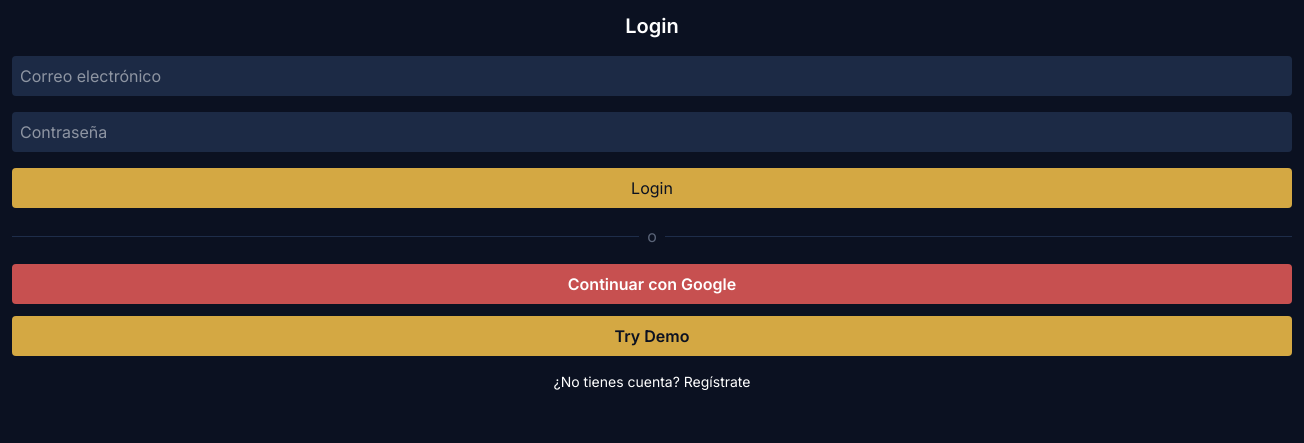
Test: LoginPage › shows an error message when login fails
Type "bad@example.com" into the field with placeholder "Correo electrónico" at (652, 76), box 12,56 -> 1292,96
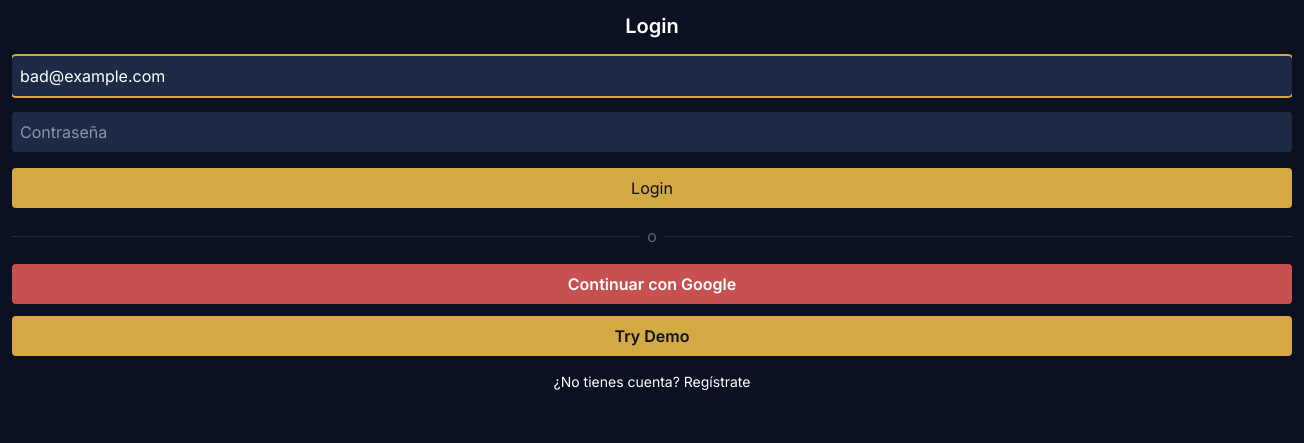
Type "wrongpass" into the password field with placeholder "Contraseña" at (652, 132), box 12,112 -> 1292,152
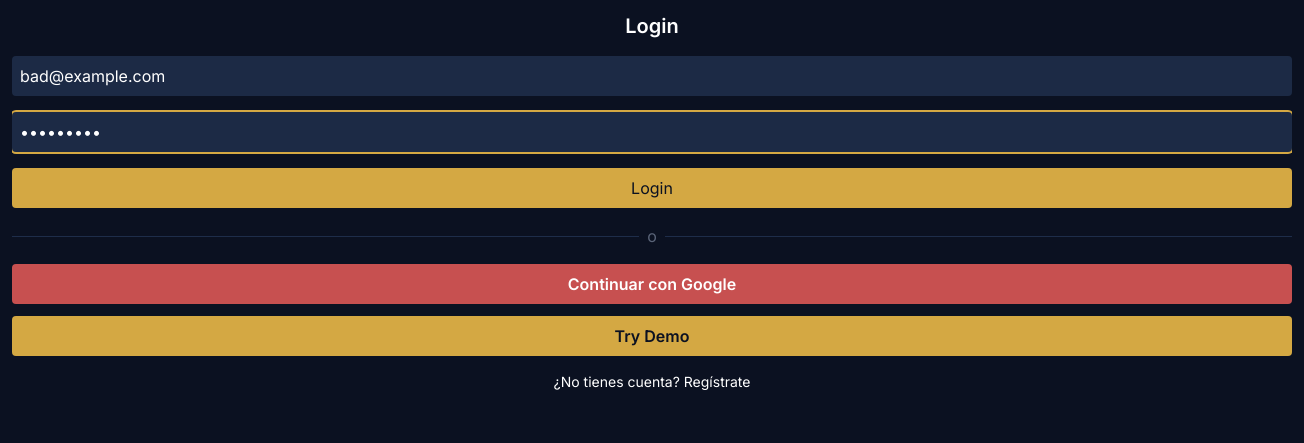
Click the button "Login" at (652, 188), box 12,168 -> 1292,208
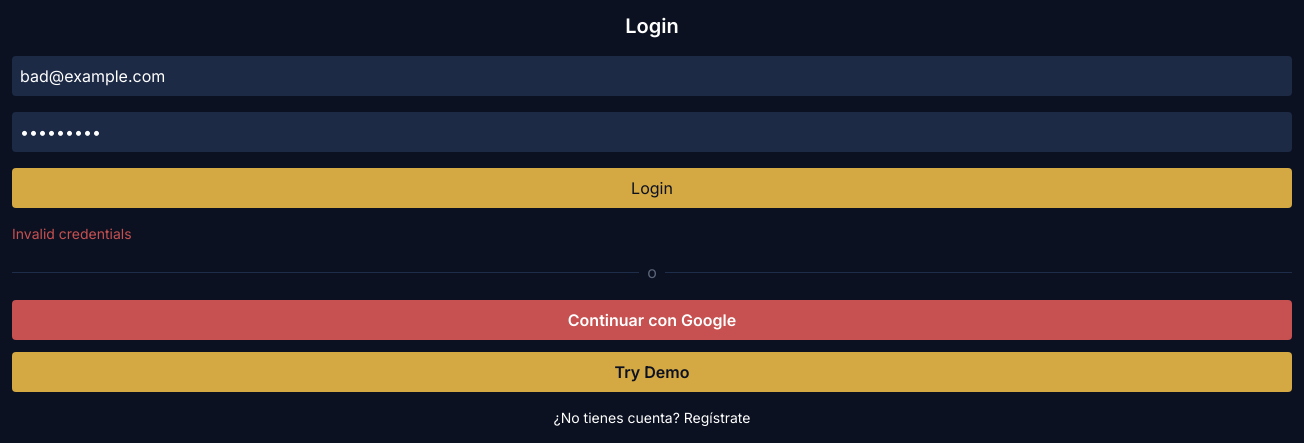
expect the text "Invalid credentials" is shown: met, box 12,225 -> 132,242
